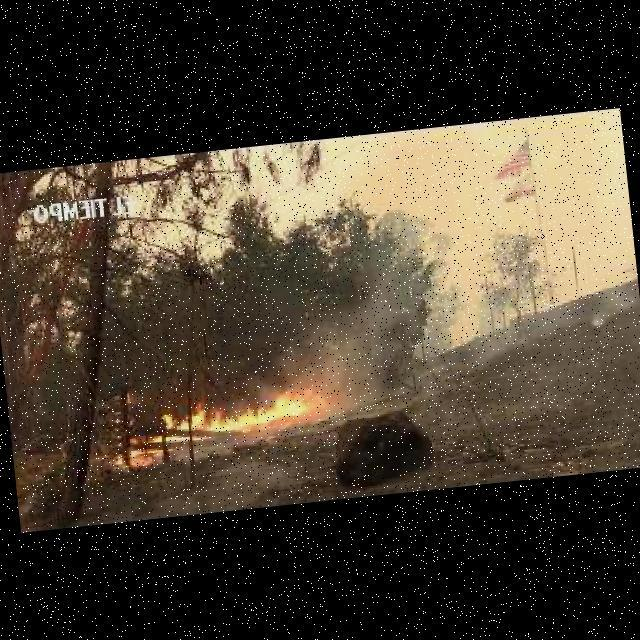Fire: (104, 382, 331, 467)
Smoke: (256, 267, 430, 388), (578, 300, 608, 327)
